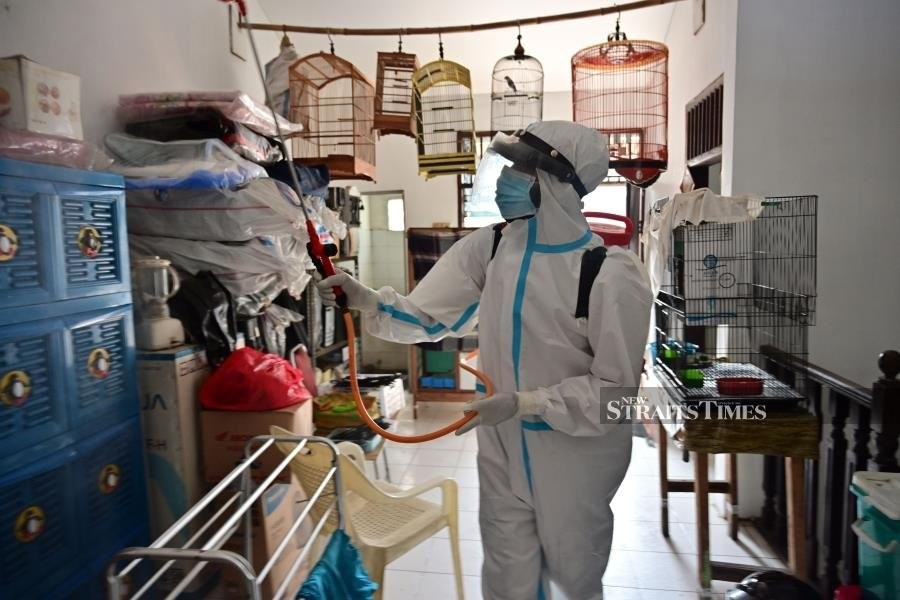Coverall: (362, 120, 656, 600)
Face Shield: (462, 124, 568, 238)
Gloves: (310, 263, 387, 317), (450, 390, 533, 440)
with_mask: (493, 165, 545, 226)
